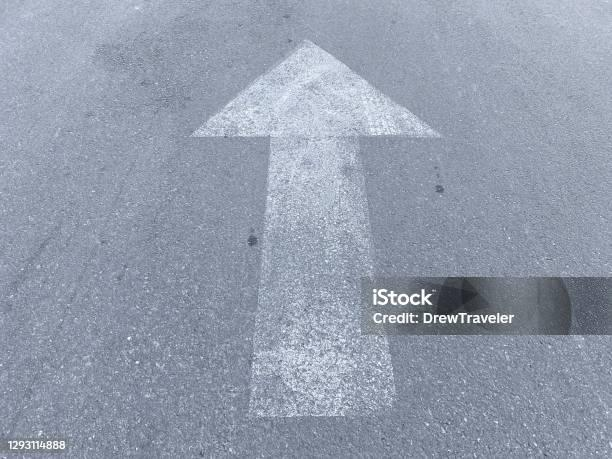faded_road_lines: (185, 36, 445, 440)
